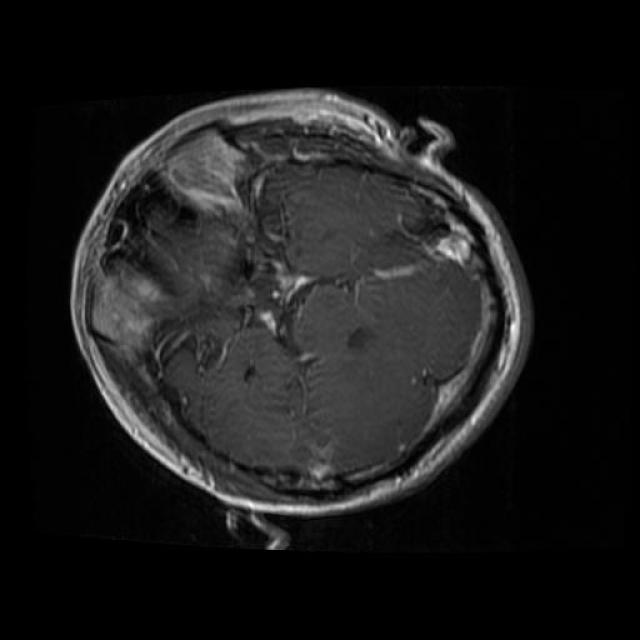Glioma: (396, 201, 483, 270)
